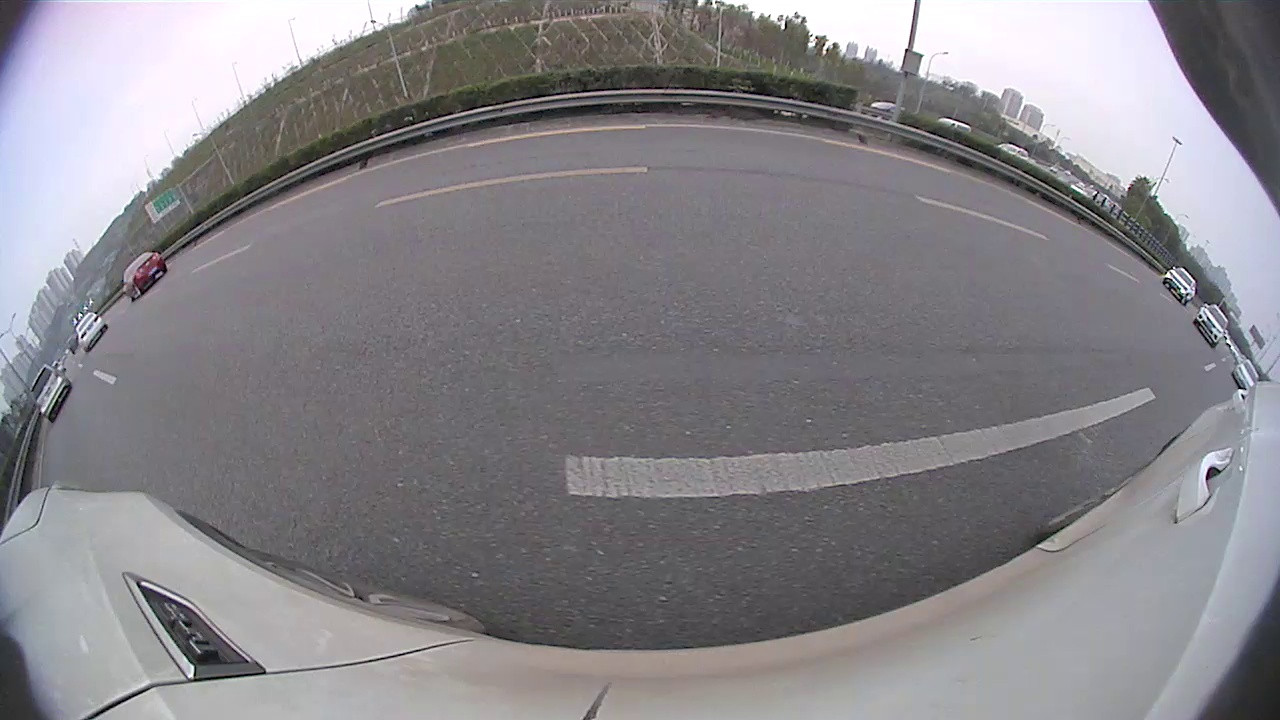car: (28, 363, 73, 425), (121, 251, 168, 302), (1192, 302, 1230, 349), (1161, 263, 1198, 306), (73, 310, 109, 353), (1231, 357, 1260, 391)
